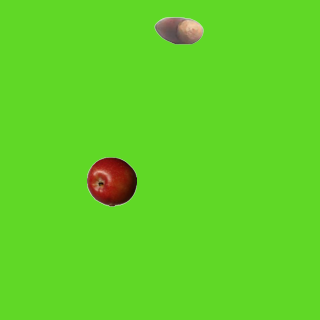Apple Braeburn: (86, 156, 136, 206)
Hazelnut: (153, 5, 203, 55)
